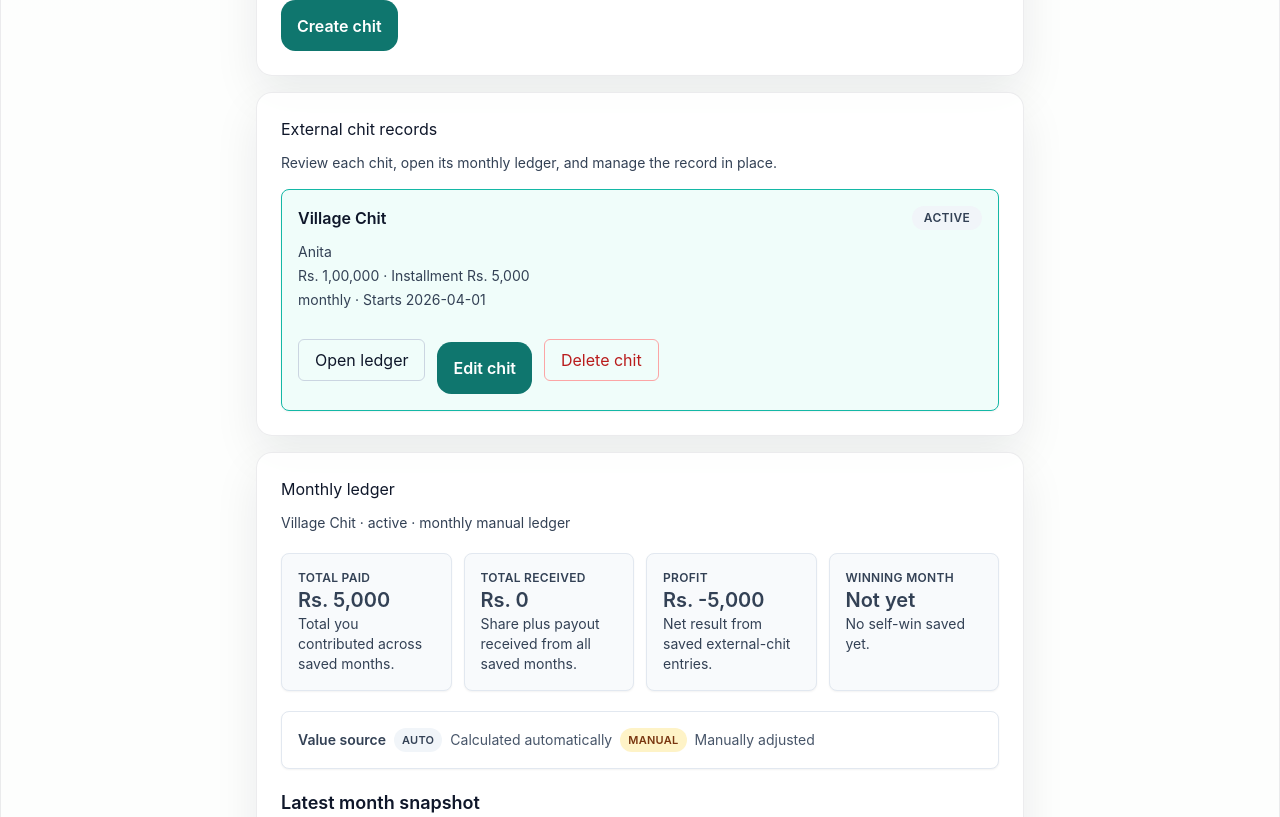
Test: updates and deletes the selected chit with inline feedback
(page scrolled)
Click the button "Edit chit" at (485, 368), box [438,342,532,394]
(page scrolled)
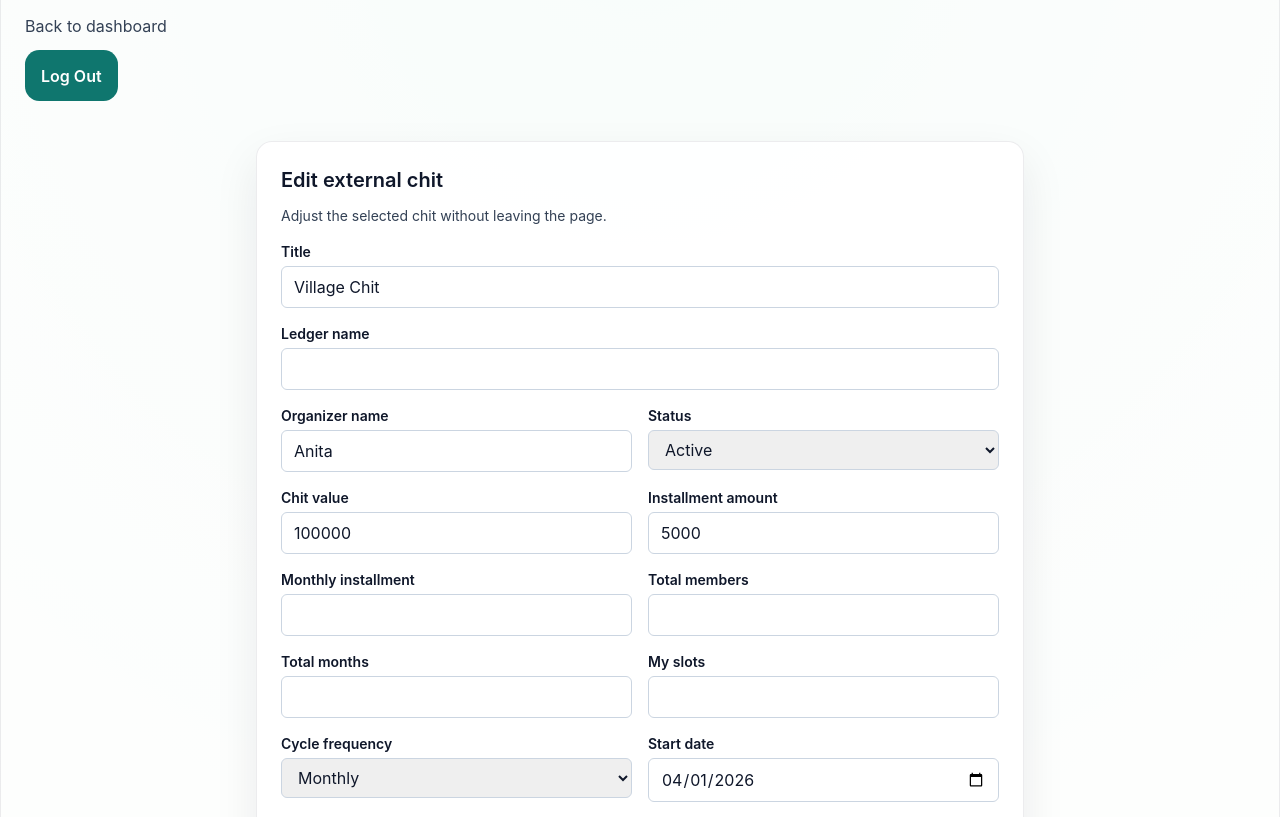
Replace the text in the field labelled "Title" with "Village Chit Updated" at (640, 287), box [281,266,999,308]
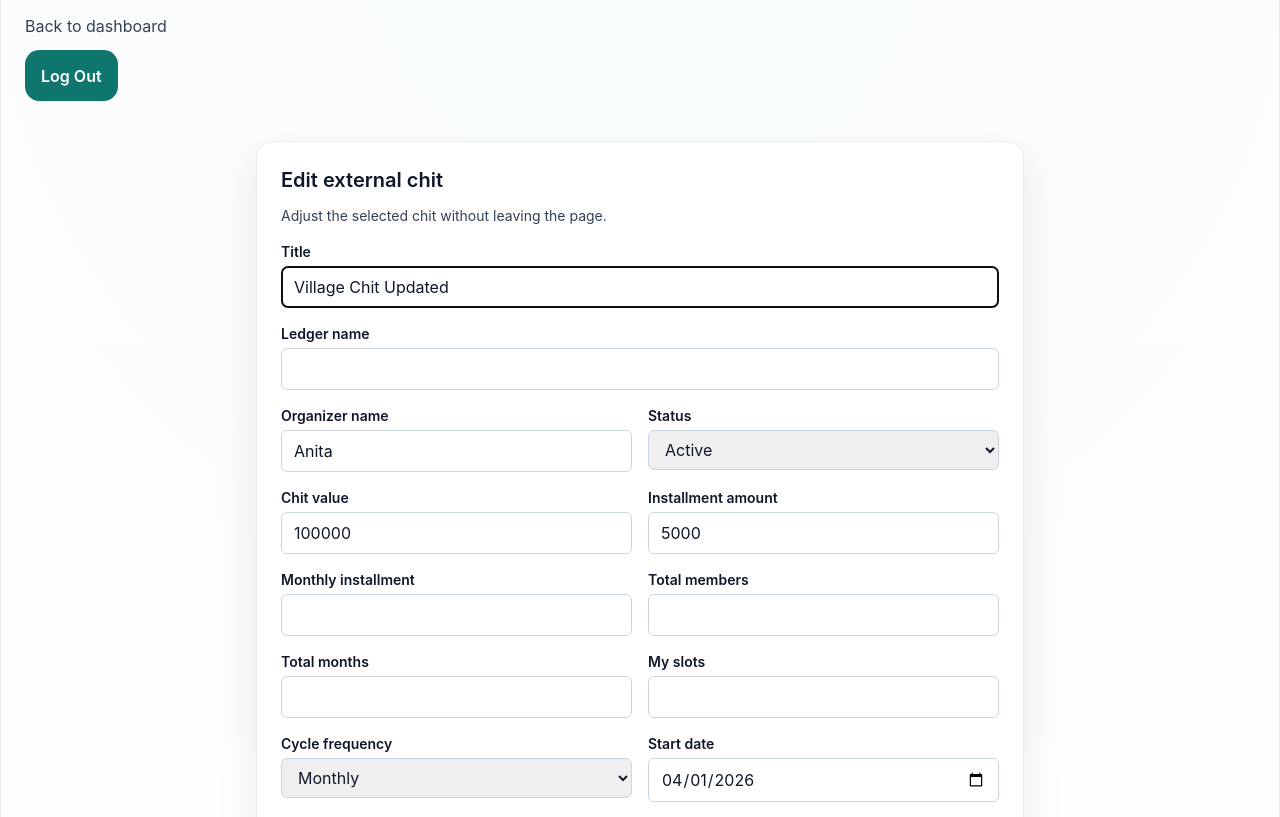
Replace the text in the number field labelled "Installment amount" with "5500" at (824, 533), box [648,512,999,554]
(page scrolled)
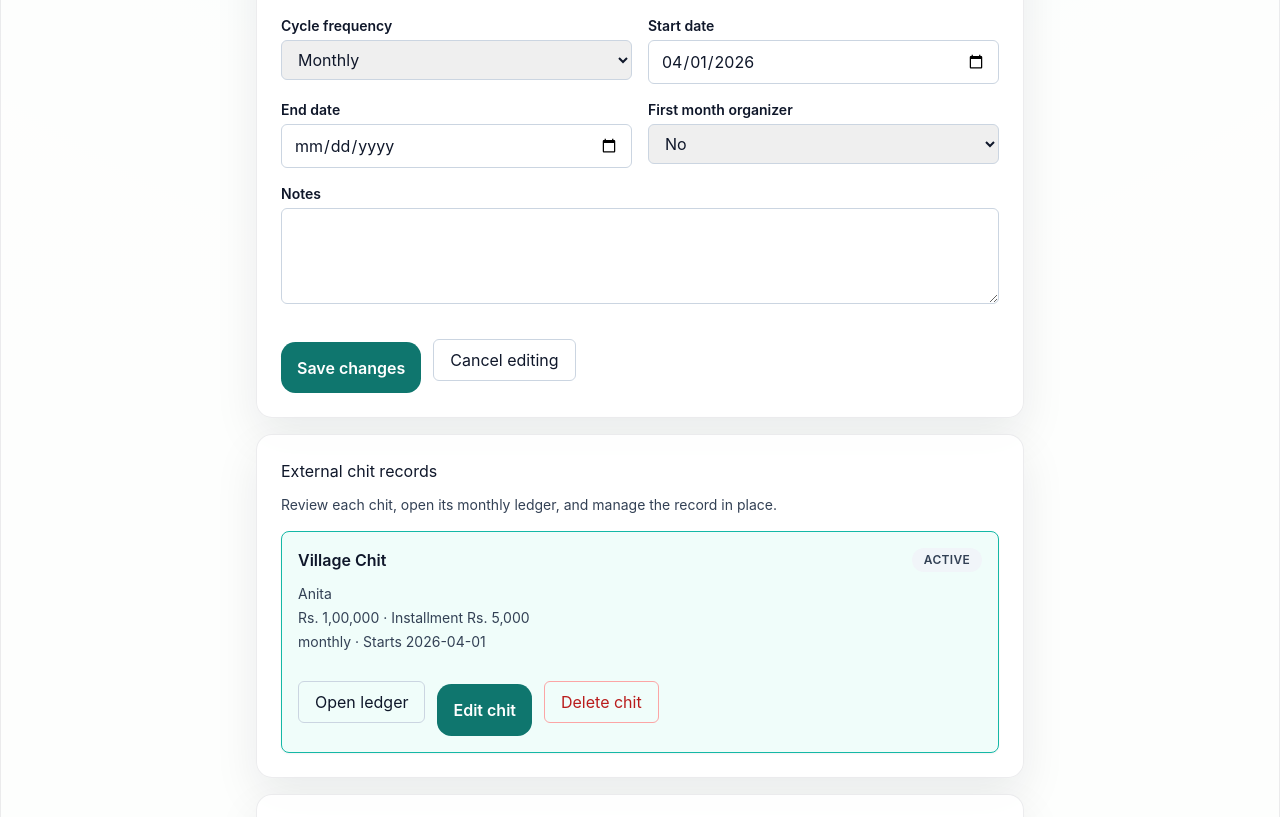
Click the button "Save changes" at (351, 368), box [281,342,421,393]
(page scrolled)
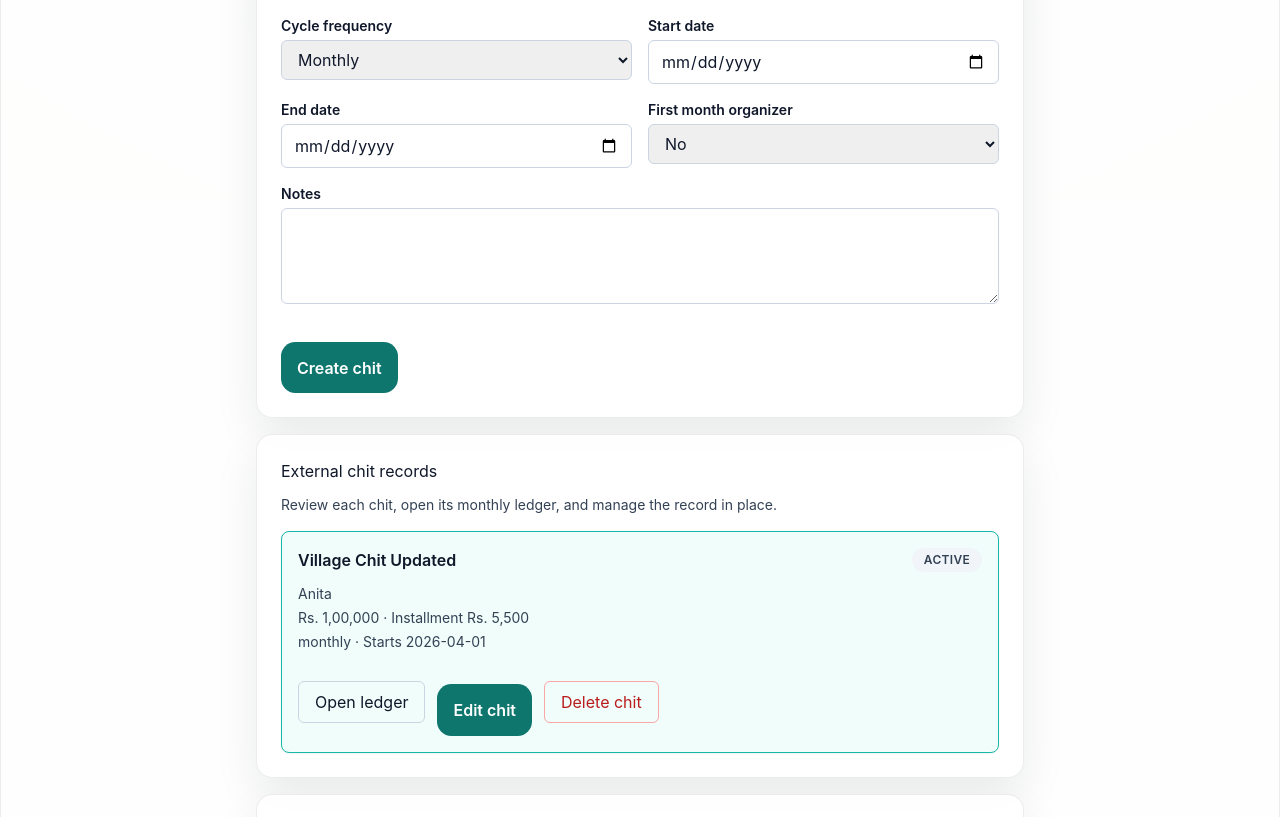
Click the button "Delete chit" at (601, 702), box [544,681,659,723]
(page scrolled)
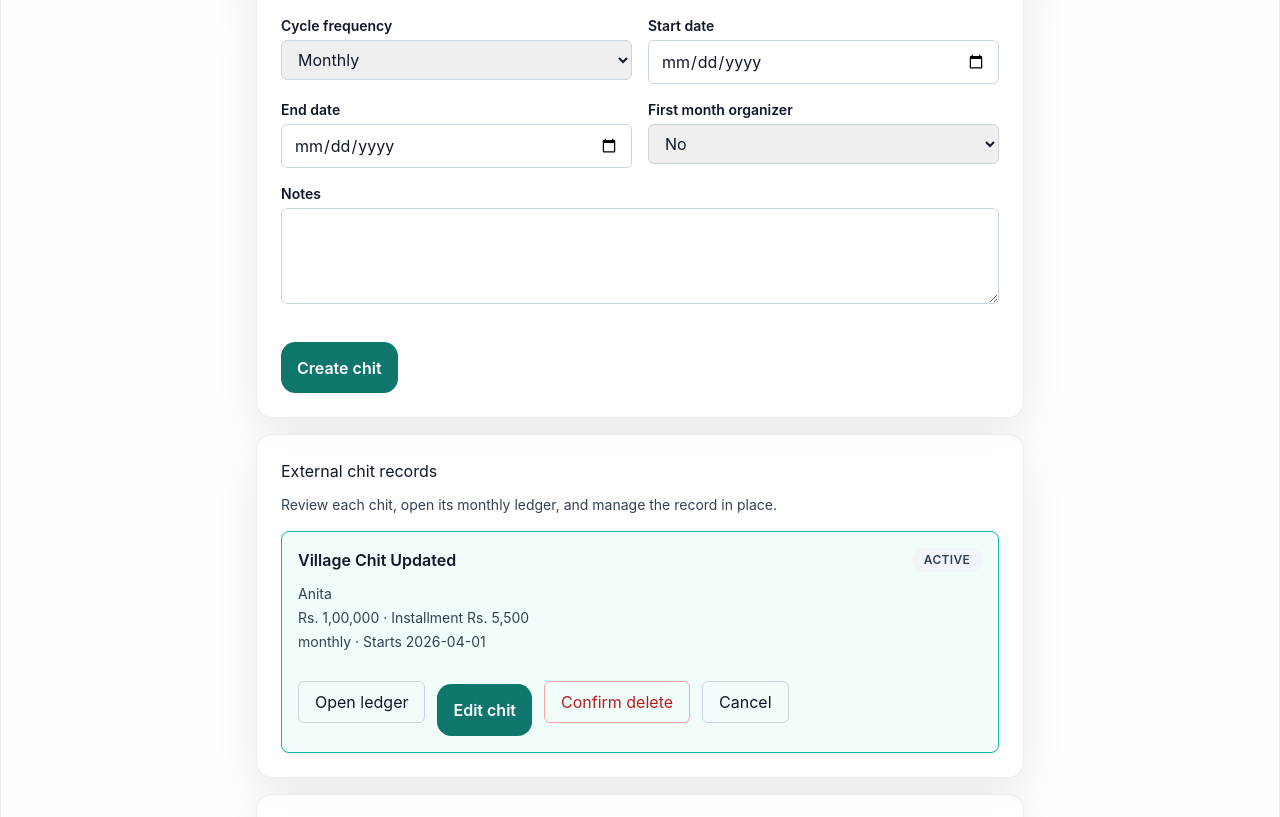
Click the button "Confirm delete" at (617, 702), box [544,681,690,723]
(page scrolled)
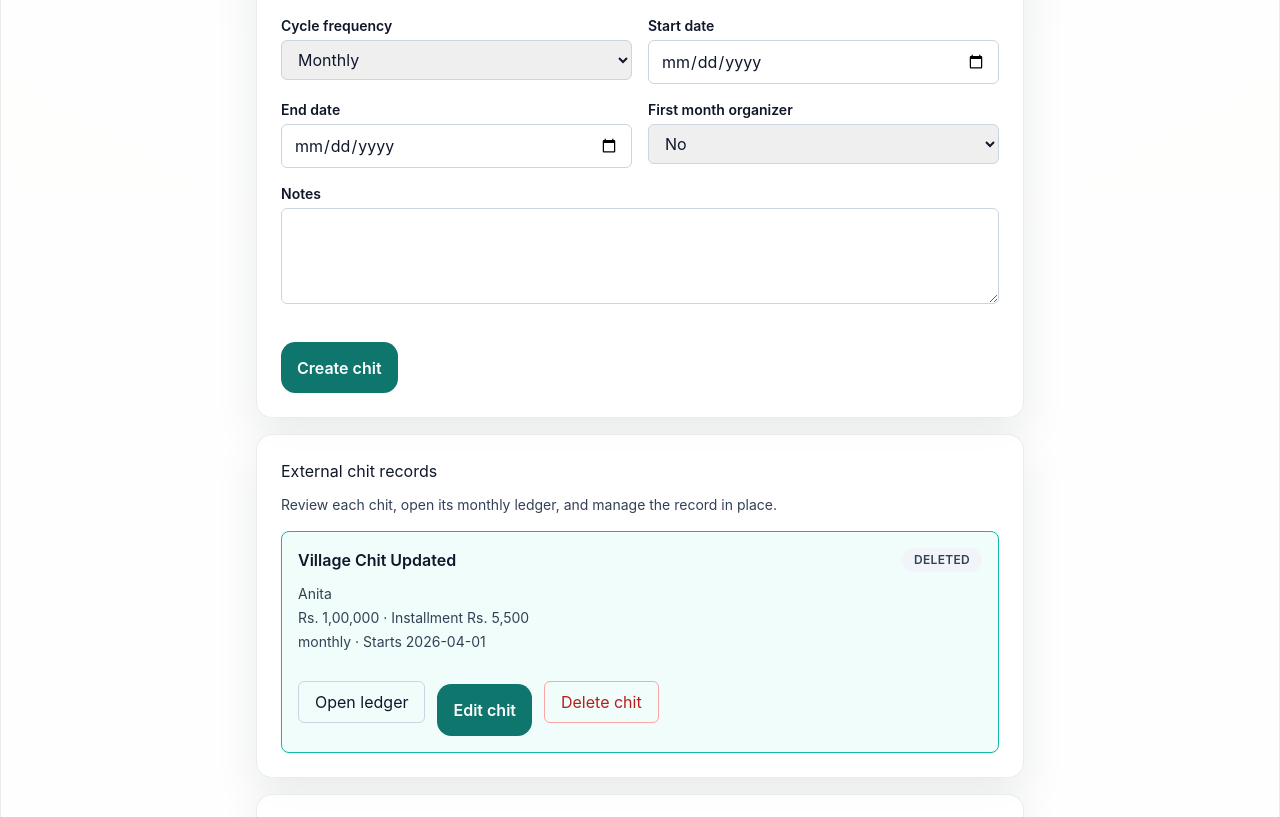
Expected: the text "deleted" is shown, [902,548,982,572]
